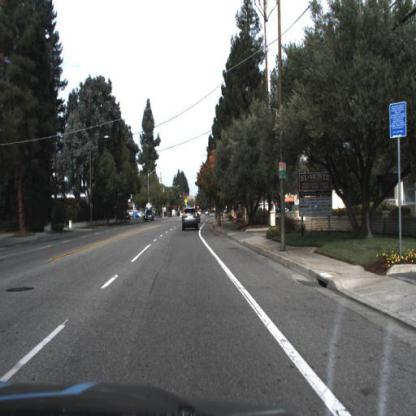car: (180, 206, 201, 234), (142, 208, 155, 226)
